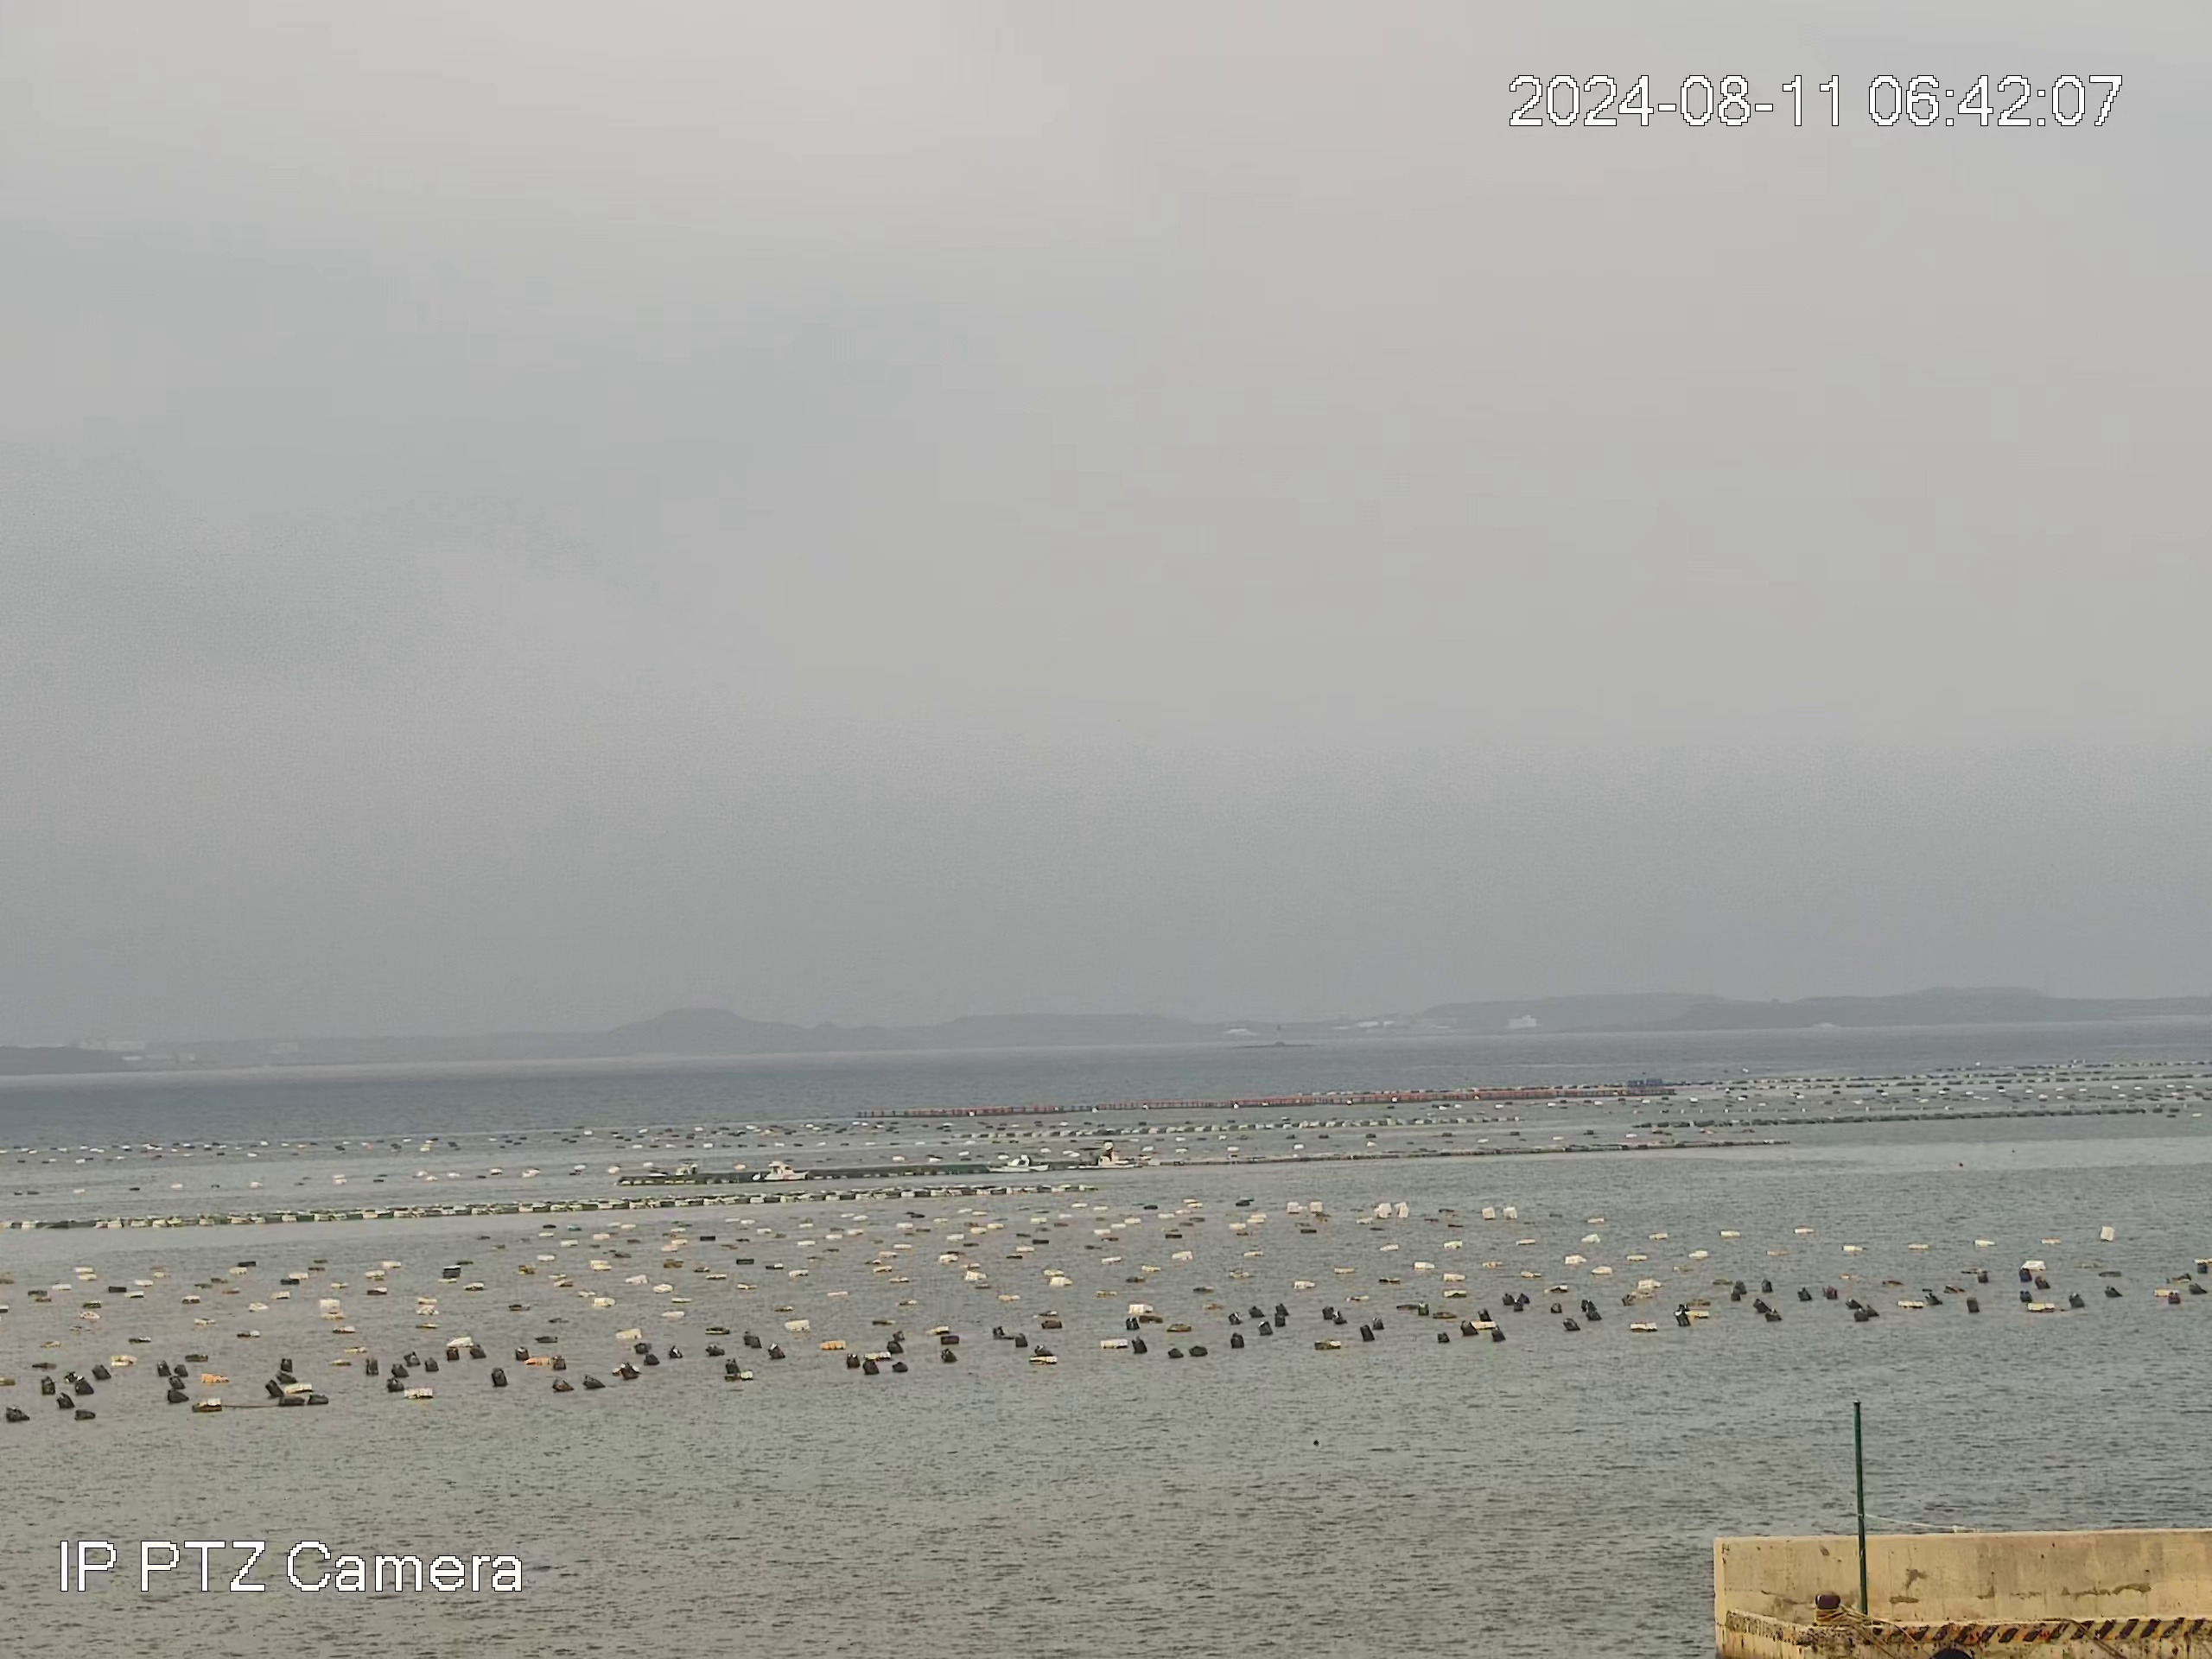boat: (982, 1152, 1050, 1175), (751, 1159, 808, 1183), (1066, 1152, 1118, 1171)
